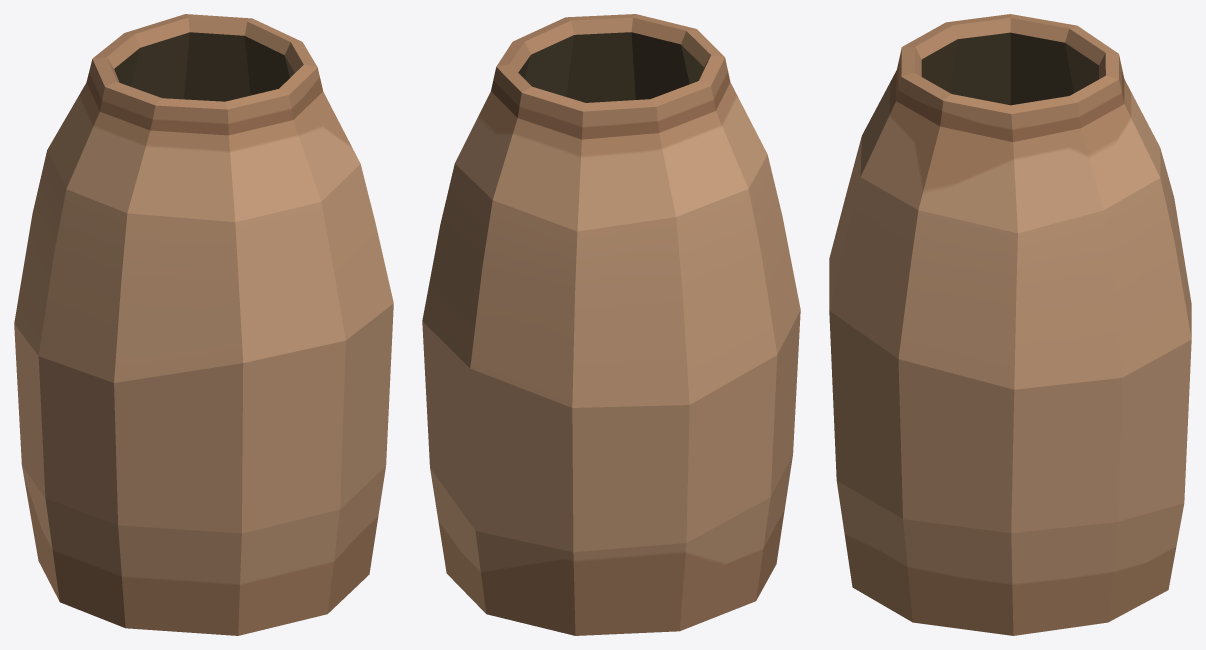
The model's file is SM_Prop_ClayJar_03.fbx.
3 views of the same model, side by side, from view 1: azimuth 30°, elevation 25°; view 2: azimuth 150°, elevation 25°; view 3: azimuth 270°, elevation 25° (orthographic).
Parts seen in each view (by area): view 1: SM_Prop_ClayJar_03; view 2: SM_Prop_ClayJar_03; view 3: SM_Prop_ClayJar_03.
Part boxes in pixels (bbox=[...]): SM_Prop_ClayJar_03: bbox=[14, 14, 393, 635]; SM_Prop_ClayJar_03: bbox=[422, 14, 800, 635]; SM_Prop_ClayJar_03: bbox=[829, 14, 1191, 635].
Size of the model in its own units: 103 by 151 by 97.57.
